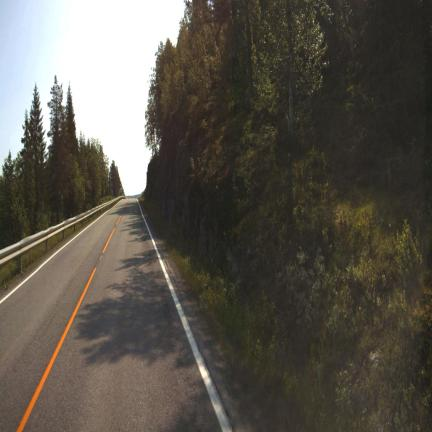Road: (0, 200, 220, 431)
